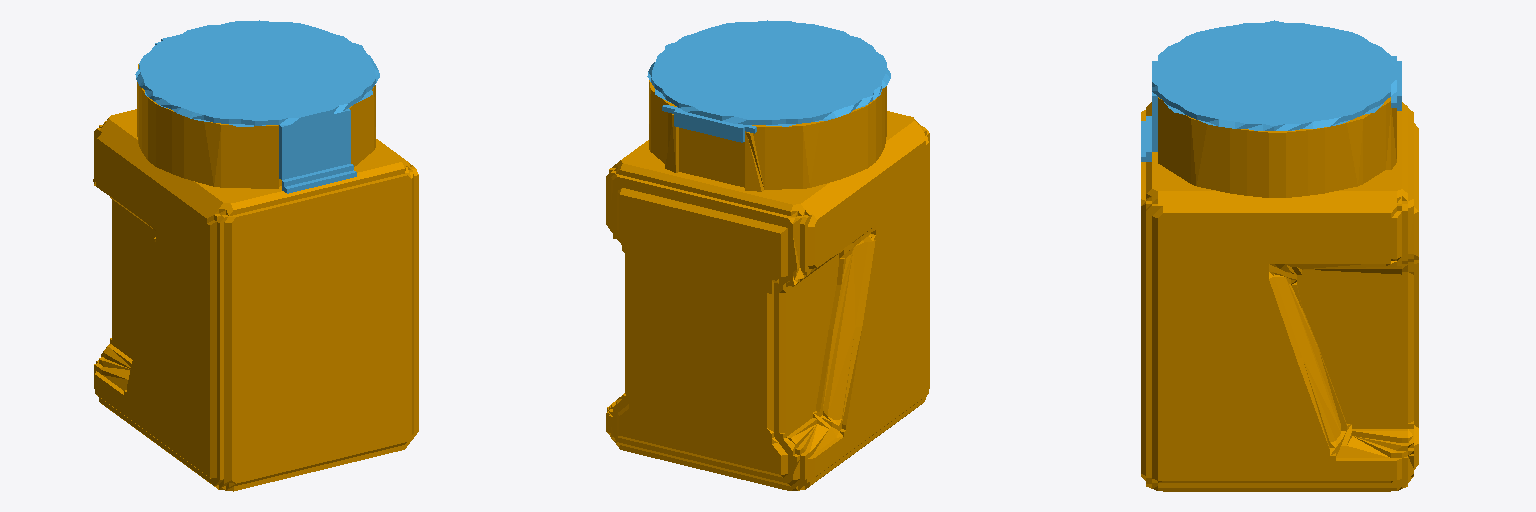
URDF robot description (bean_box):
<?xml version="1.0" ?>
<robot name="bean_box">
  <link
    name="box_base">
    <inertial>
      <origin
        xyz="0.0 0.0 0.06"
        rpy="0 0 0" />
      <mass
        value="1.0" />
      <inertia
        ixx="0.0016"
        ixy="0"
        ixz="0"
        iyy="0.0016"
        iyz="0"
        izz="0.0016" />
    </inertial>
    <visual>
      <origin
        xyz="-0.01 0 0"
        rpy="0 0 0" />
      <geometry>
        <mesh
          filename="package://hlpr_gazebo/objects/meshes/bbm.stl" />
      </geometry>
    </visual>
    <collision>
      <origin
        xyz="-0.01 0 0"
        rpy="0 0 0" />
      <geometry>
        <mesh
          filename="package://hlpr_gazebo/objects/meshes/bbm.stl" />
      </geometry>
    </collision>
  </link>
  <link
    name="box_lid">
    <inertial>
      <origin
        xyz="0.0 -0.045 -0.001"
        rpy="0 0 0" />
      <mass
        value="0.01" />
      <inertia
        ixx="0.000008"
        ixy="0"
        ixz="0"
        iyy="0.000008"
        iyz="0"
        izz="0.000008" />
    </inertial>
    <visual>
      <origin
        xyz="-0.01 -0.045 -0.011"
        rpy="0 0 0" />
      <geometry>
        <mesh
          filename="package://hlpr_gazebo/objects/meshes/bbt.stl" />
      </geometry>
    </visual>
    <collision>
      <origin
        xyz="-0.01 -0.045 -0.011"
        rpy="0 0 0" />
      <geometry>
        <mesh
          filename="package://hlpr_gazebo/objects/meshes/bbt.stl" />
      </geometry>
    </collision>
  </link>
  <gazebo reference="box_lid">
    <material>Gazebo/Red</material>
  </gazebo>
  <joint
    name="box_hinge"
    type="revolute">
    <origin
      xyz="0.0 0.045 0.151"
      rpy="0 0 0" />
    <parent
      link="box_base" />
    <child
      link="box_lid" />
    <axis xyz="1 0 0" />
    <limit effort="30" velocity="1.0" lower="-1.575" upper="0.0" />
    <dynamics damping="0.05" friction="0.02"/>
  </joint>
</robot>

--- Facts derived from the render (not from the file) ---
Views: 3 orthographic renders of the robot side by side, from view 1: azimuth 30°, elevation 25°; view 2: azimuth 150°, elevation 25°; view 3: azimuth 270°, elevation 25°.
Model bean_box with 2 links and 1 joints (1 revolute), rooted at box_base, posed all joints at 0.
Links seen in each view (by area): view 1: box_base, box_lid; view 2: box_base, box_lid; view 3: box_base, box_lid.
Boxes of the visible links, left/top/right/bottom form: box_base: left=93, top=64, right=418, bottom=491; box_lid: left=135, top=20, right=379, bottom=193; box_base: left=606, top=80, right=929, bottom=490; box_lid: left=647, top=20, right=890, bottom=142; box_base: left=1141, top=97, right=1418, bottom=491; box_lid: left=1141, top=20, right=1401, bottom=161.
Bounding box of the posed robot: 0.09 × 0.1 × 0.1485 m (x, y, z).
2 mesh visuals loaded from 2 distinct referenced files (2 binary STL).